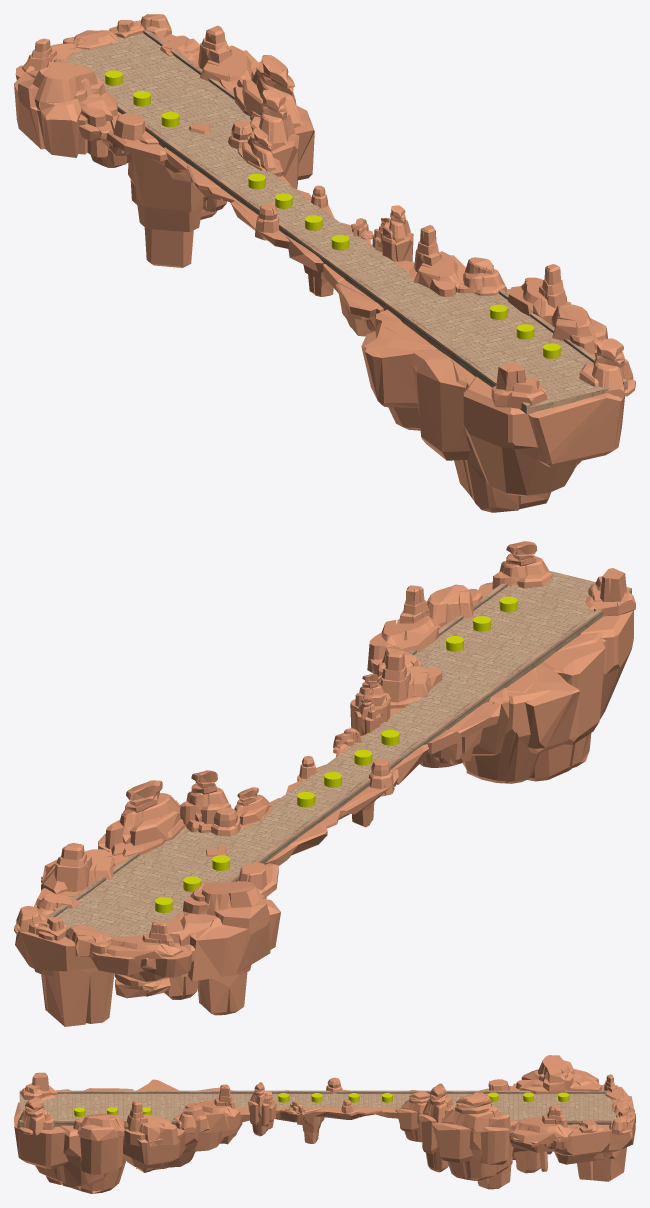
File: road_8_block_D.fbx
The picture shows the model from 3 angles, top to bottom: view 1: azimuth 30°, elevation 25°; view 2: azimuth 150°, elevation 25°; view 3: azimuth 270°, elevation 25°; orthographic projection. The views are drawn at different scales.
Visible parts, largest first — view 1: road_8_block_D_standie, road_8_block_D; view 2: road_8_block_D_standie, road_8_block_D; view 3: road_8_block_D_standie, road_8_block_D.
Part boxes in pixels (<box>): road_8_block_D_standie: <box>14,14,635,512</box>; road_8_block_D: <box>54,28,627,413</box>; road_8_block_D_standie: <box>14,541,635,1026</box>; road_8_block_D: <box>46,571,631,936</box>; road_8_block_D_standie: <box>14,1055,635,1193</box>; road_8_block_D: <box>19,1090,616,1126</box>.
Bounding box in the file's own units: 2143 × 1734 × 8222.
